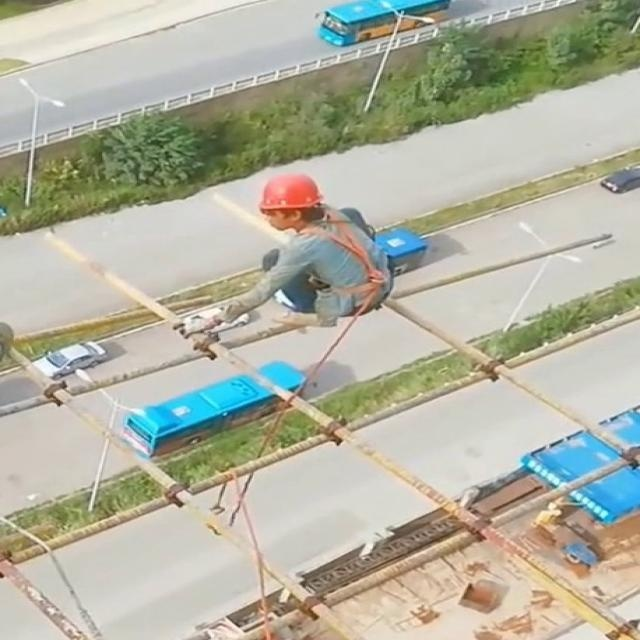Arnes_seguridad: (285, 202, 393, 307)
